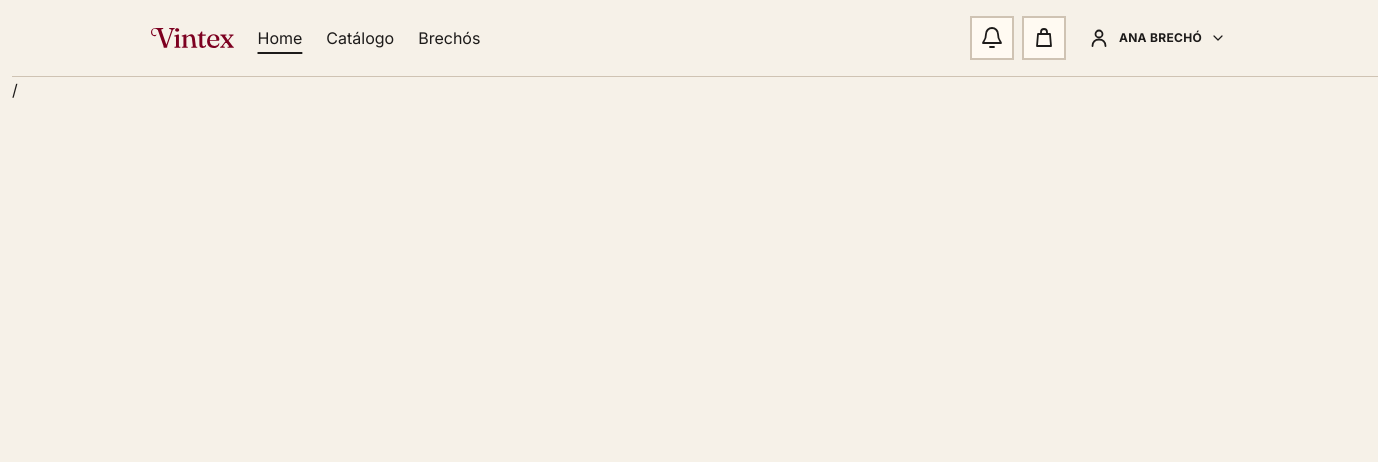
Test case: <Header /> › FE-FND-6: navegação da Sprint 3 › logado: exibe Meus pedidos no menu da conta
Click the button "Ana Brechó".
click(1156, 38)  # box left=1074, top=16, right=1239, bottom=60
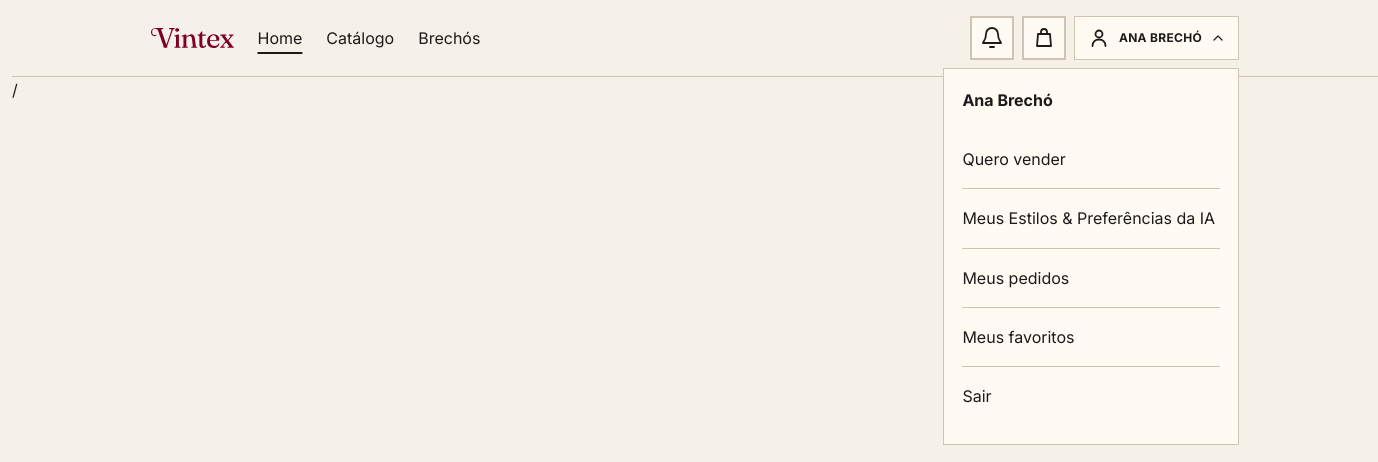
Expected: the button "Meus pedidos" is shown, left=962, top=249, right=1220, bottom=307
